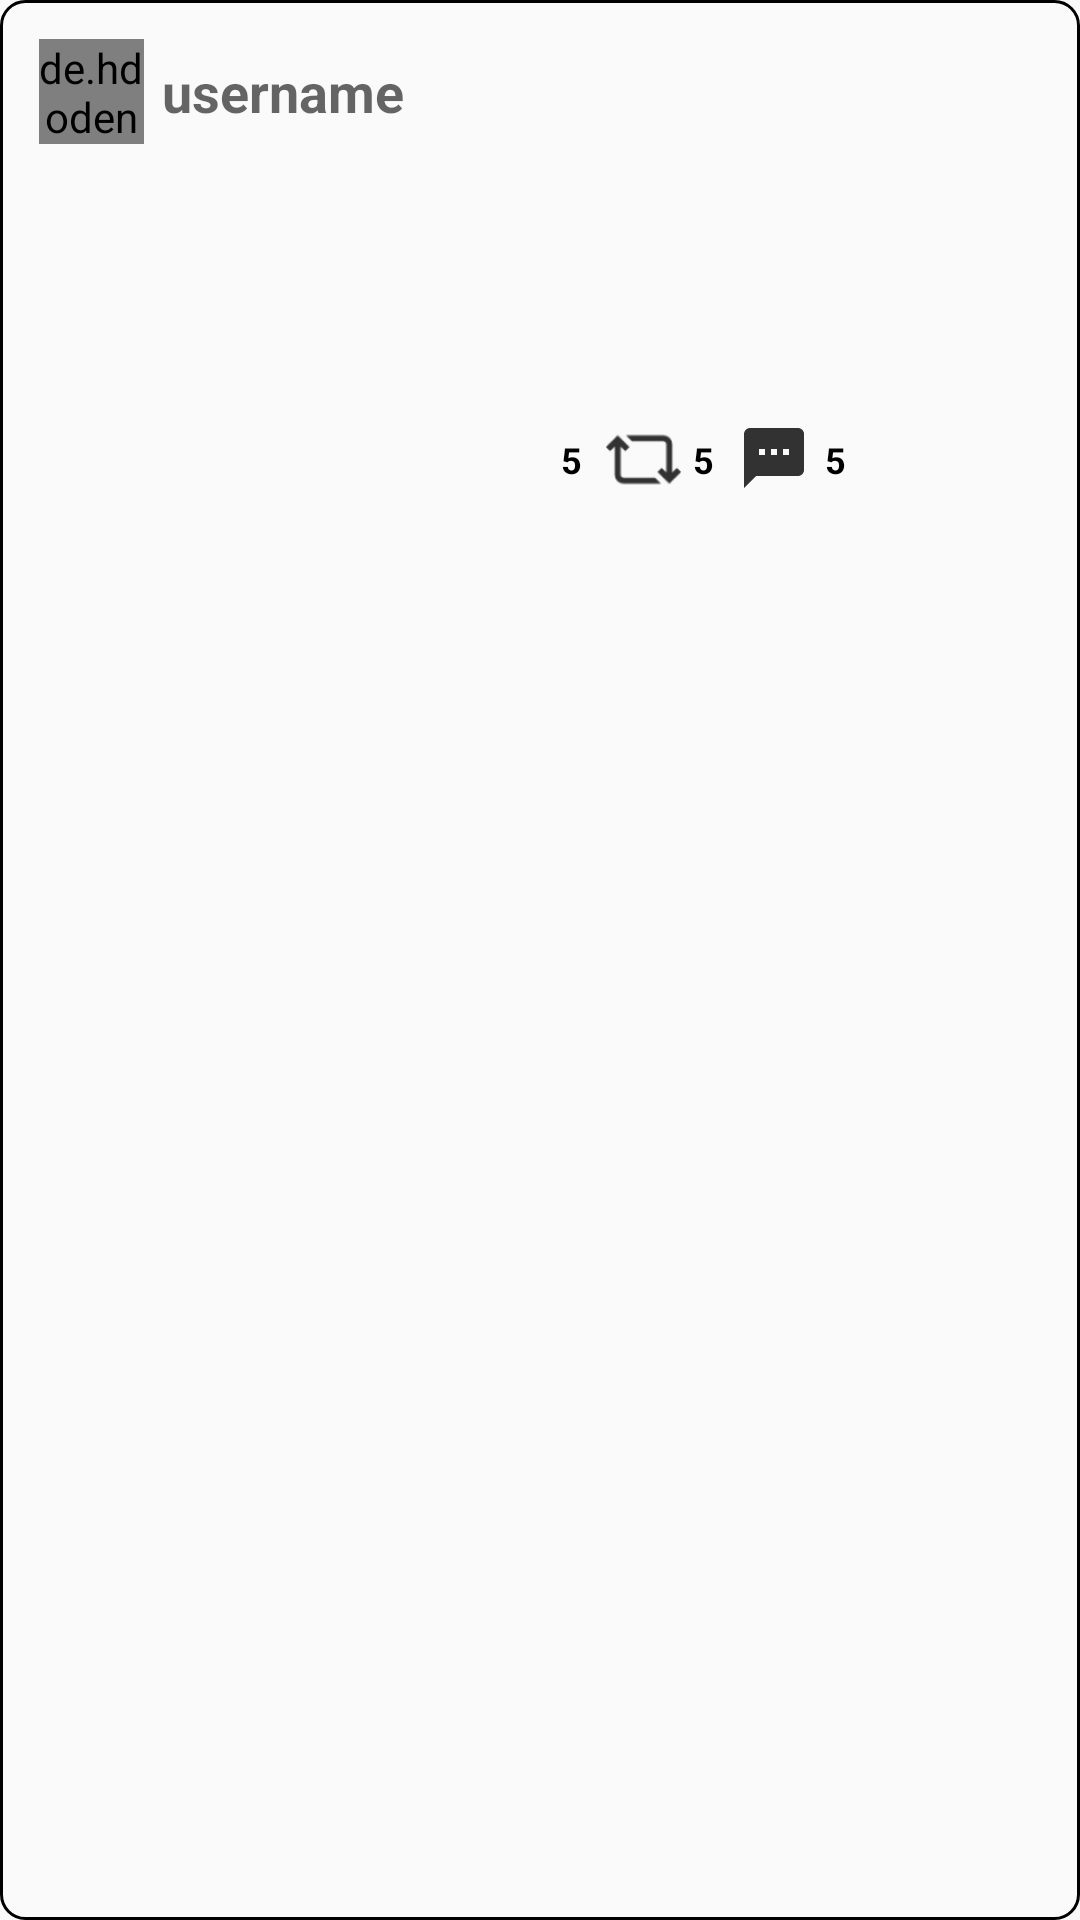

Where icons sit on this 1080 × 1920 app screen, as (x1, y1, x2, y2):
message: (744, 428, 804, 488)
